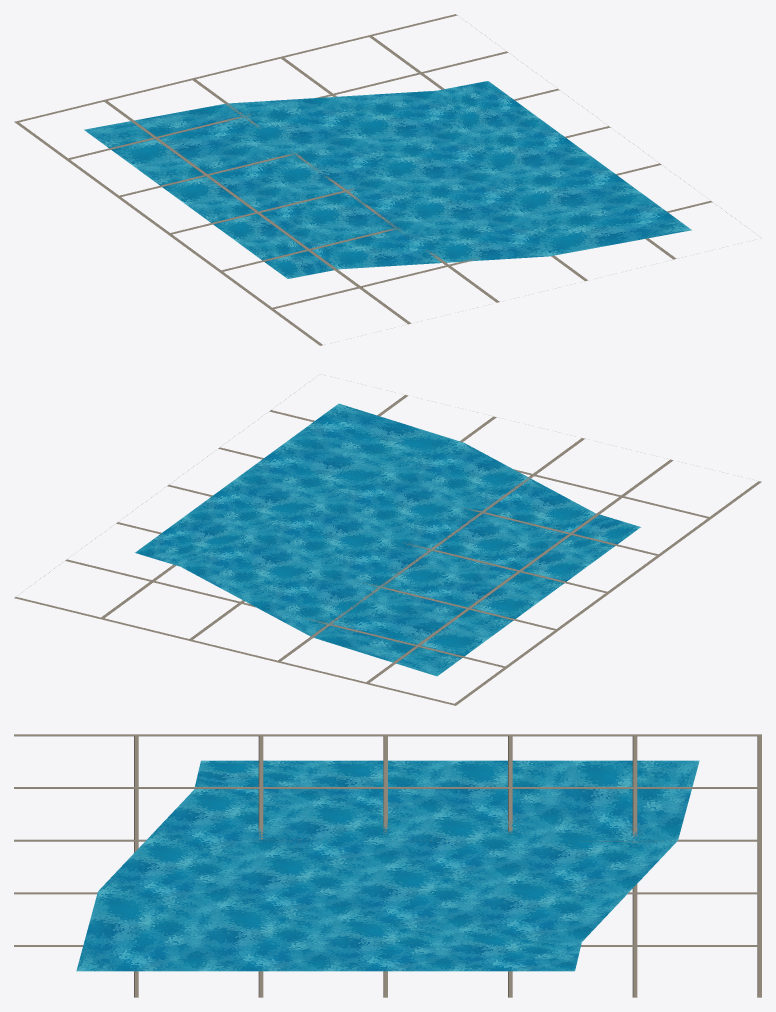
Rendered from Terrain_Water_River_Esse_CW_4x5.glb.
3 views of the same model, one above another, from view 1: azimuth 30°, elevation 25°; view 2: azimuth 150°, elevation 25°; view 3: azimuth 270°, elevation 25° (orthographic). The views are drawn at different scales.
Visible parts, largest first — view 1: Terrain_Water_River_Esse_CW_4x5, Floor; view 2: Terrain_Water_River_Esse_CW_4x5, Floor; view 3: Terrain_Water_River_Esse_CW_4x5, Floor.
Part boxes in pixels (left/top/right/bottom): Terrain_Water_River_Esse_CW_4x5: left=84, top=81, right=691, bottom=278; Floor: left=14, top=14, right=740, bottom=345; Terrain_Water_River_Esse_CW_4x5: left=135, top=403, right=640, bottom=676; Floor: left=14, top=385, right=761, bottom=705; Terrain_Water_River_Esse_CW_4x5: left=76, top=760, right=699, bottom=971; Floor: left=14, top=734, right=761, bottom=997.
Bounding box in the file's own units: 500 × 0.000142 × 600.
2 materials, 2 textured.
